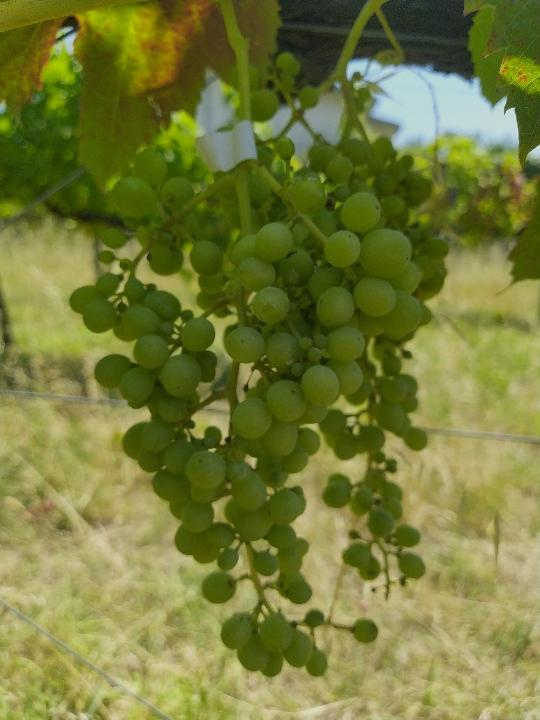grape: (63, 137, 422, 679)
